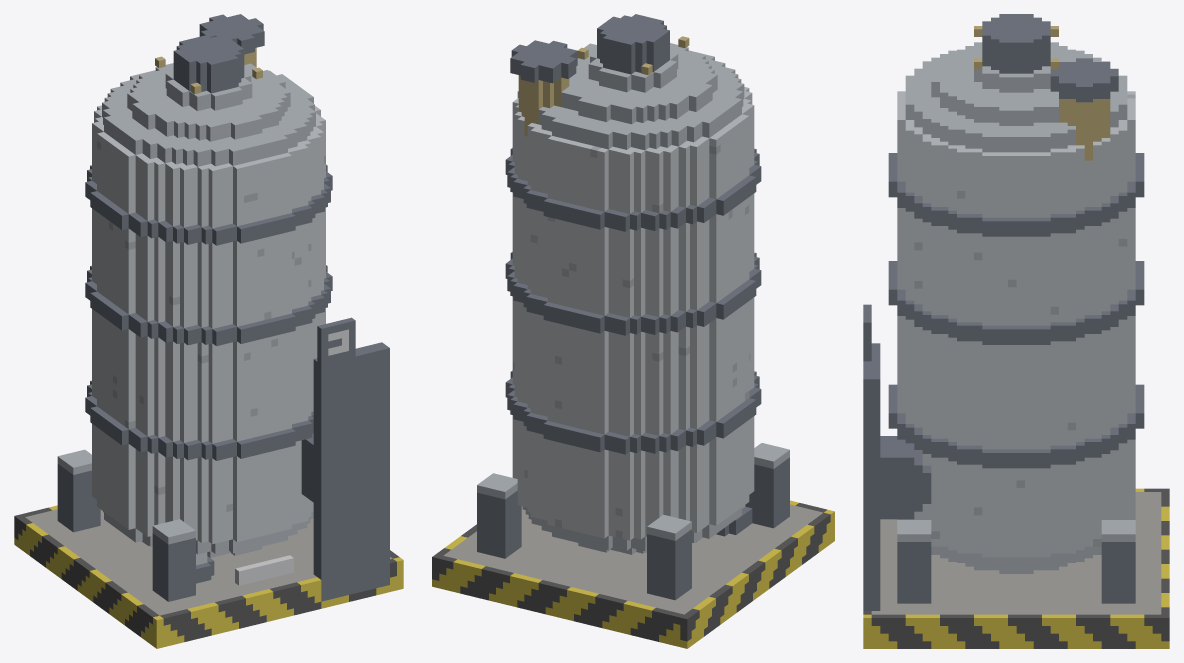
Rendered from air_receiver.glb.
The picture shows the model from 3 angles, left to right: view 1: azimuth 30°, elevation 25°; view 2: azimuth 150°, elevation 25°; view 3: azimuth 270°, elevation 25°; orthographic projection. The views are drawn at different scales.
Visible parts, largest first — view 1: air_receiver; view 2: air_receiver; view 3: air_receiver.
Boxes of the visible parts, box(x1,y1,x2,y2) form: air_receiver: box(14, 14, 403, 648); air_receiver: box(432, 14, 834, 648); air_receiver: box(863, 14, 1169, 648).
Bounding box in the file's own units: 1.12 × 2.25 × 1.12.
